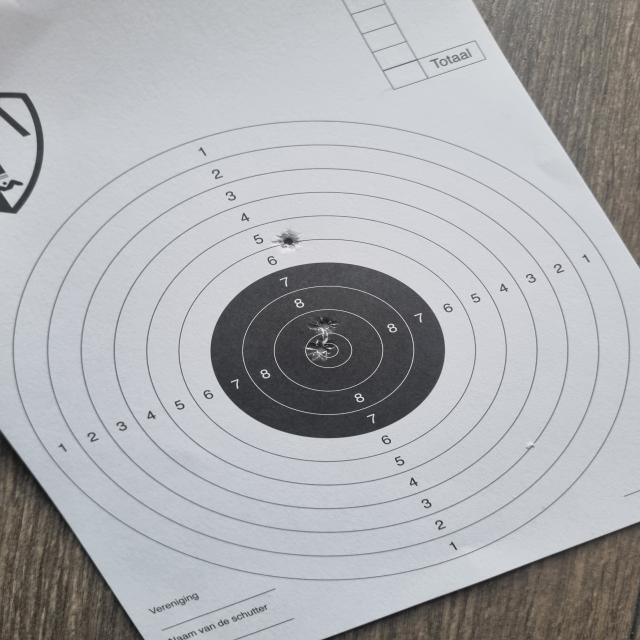10: (309, 314, 339, 338), (308, 338, 336, 362)
6: (271, 230, 303, 252)
Target: (12, 118, 632, 582)
black_contour: (210, 263, 448, 439)
